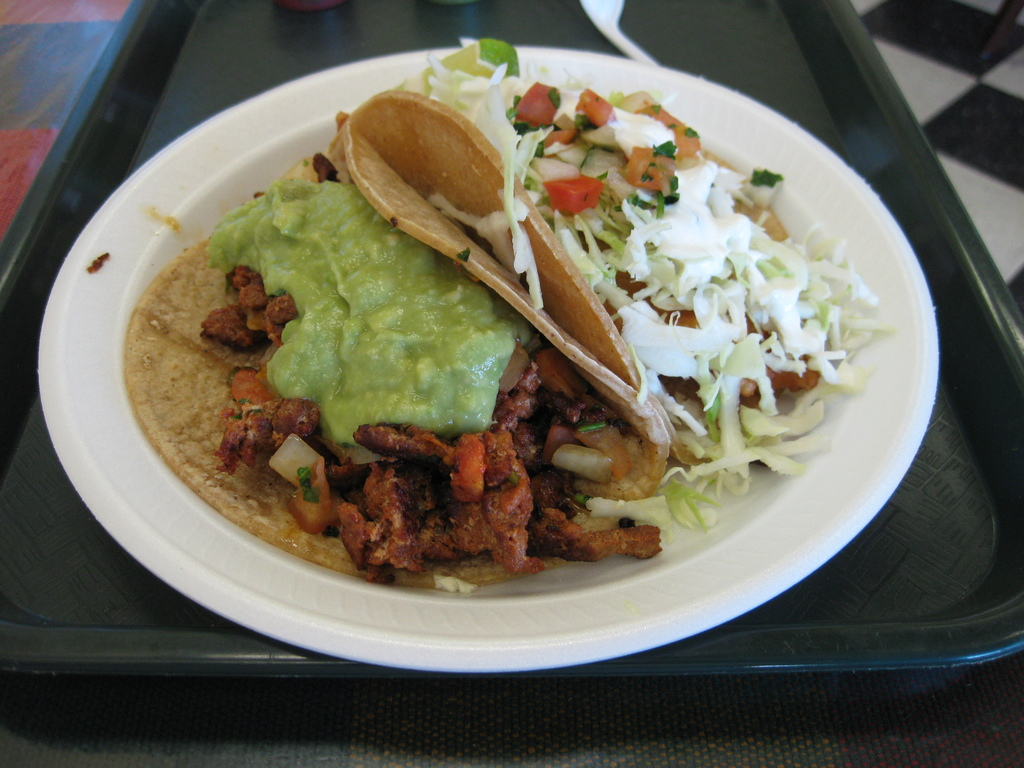taco: (123, 122, 671, 592), (412, 67, 839, 458)
